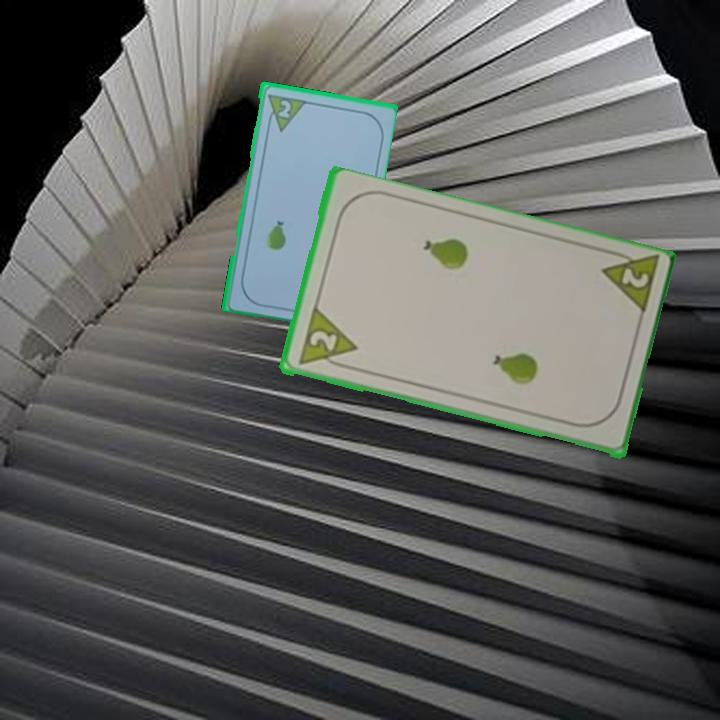2p: (596, 245, 661, 320), (294, 306, 359, 374), (273, 96, 293, 121)
